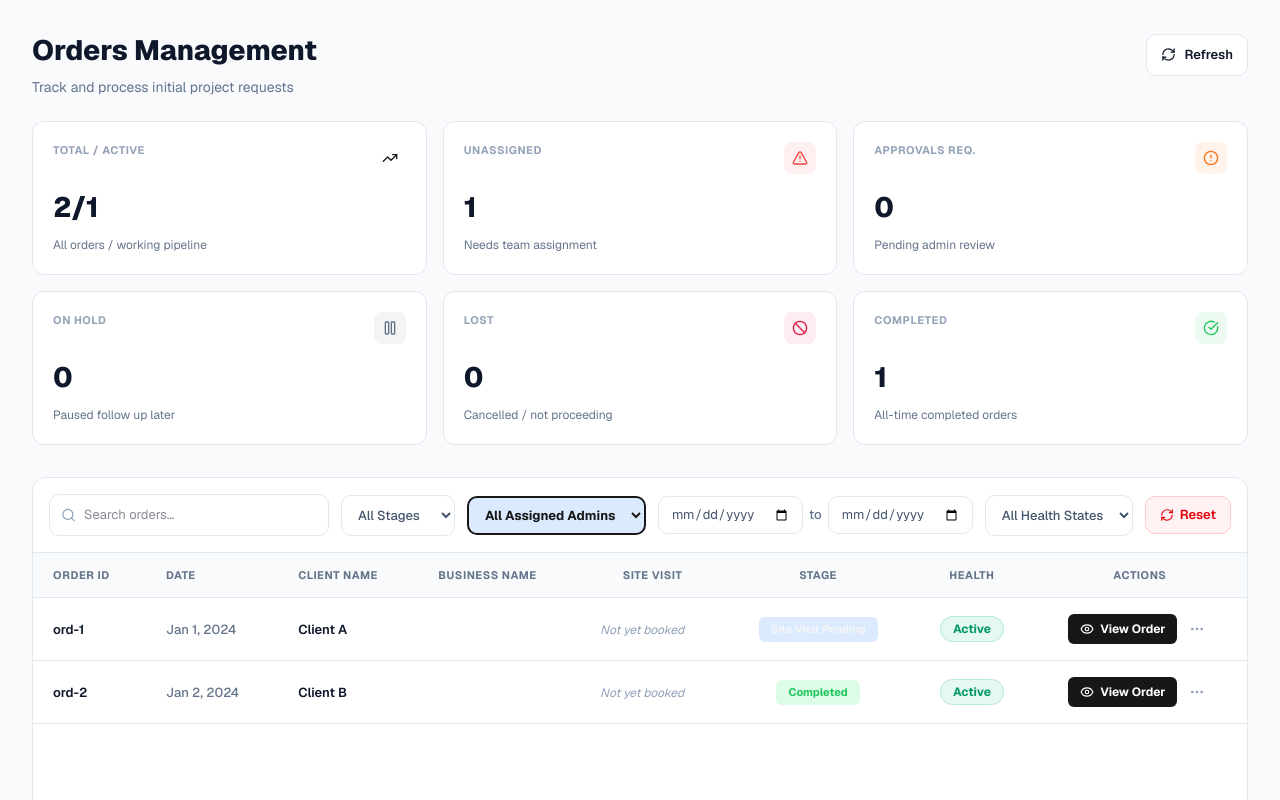
it: OrdersManagementDashboard › filters orders by search term
Replace the text in the field with placeholder "Search orders…" with "Client B": (640, 516) [33,478,1247,553]
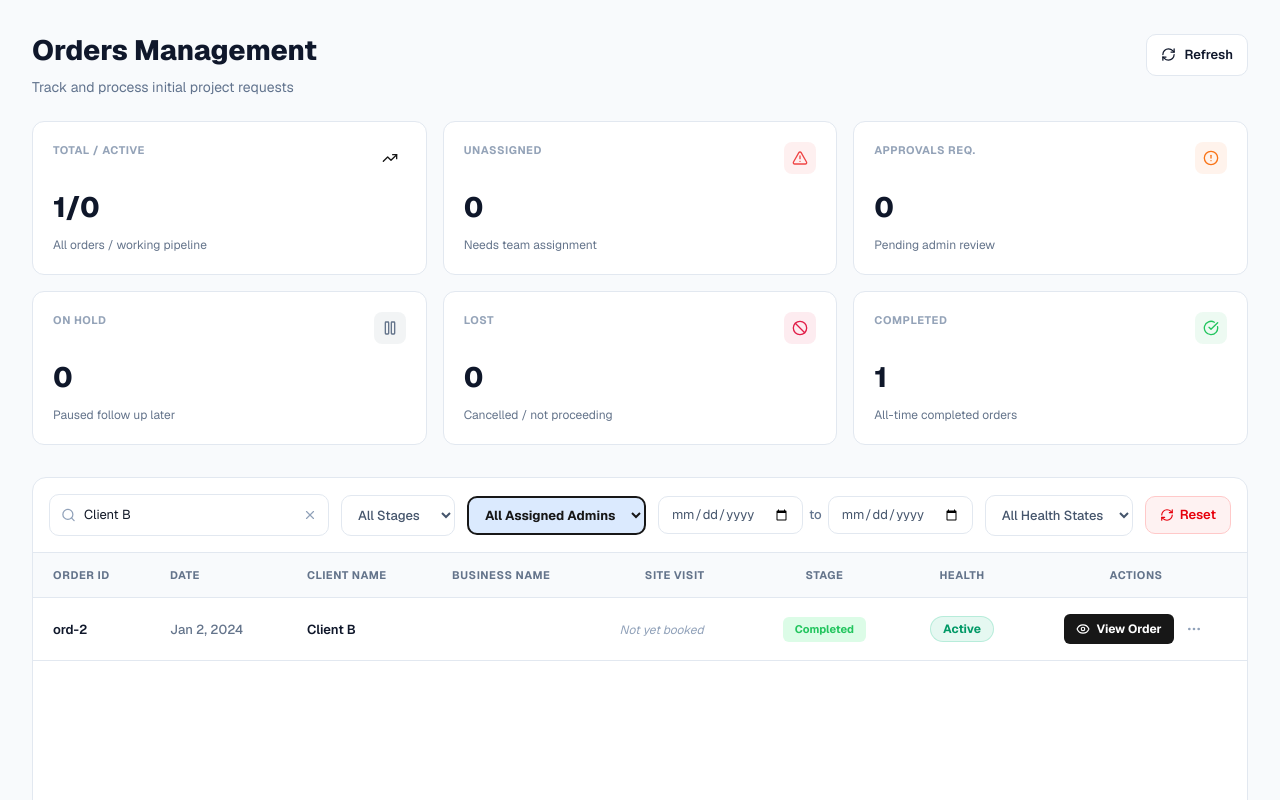
Now the text "Client A" is not shown
